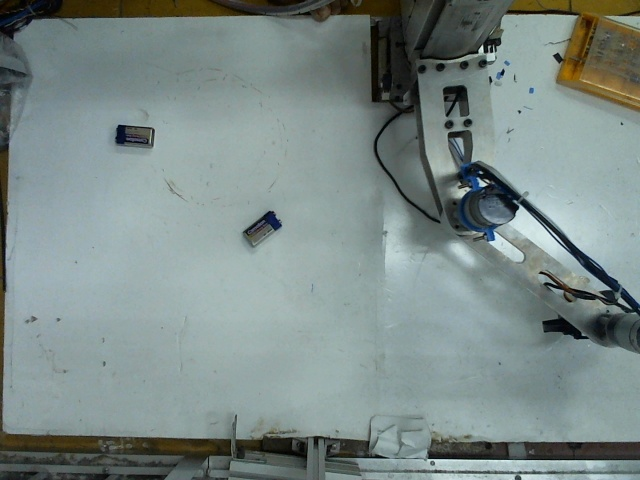battery: (237, 207, 280, 245), (113, 118, 158, 145)
